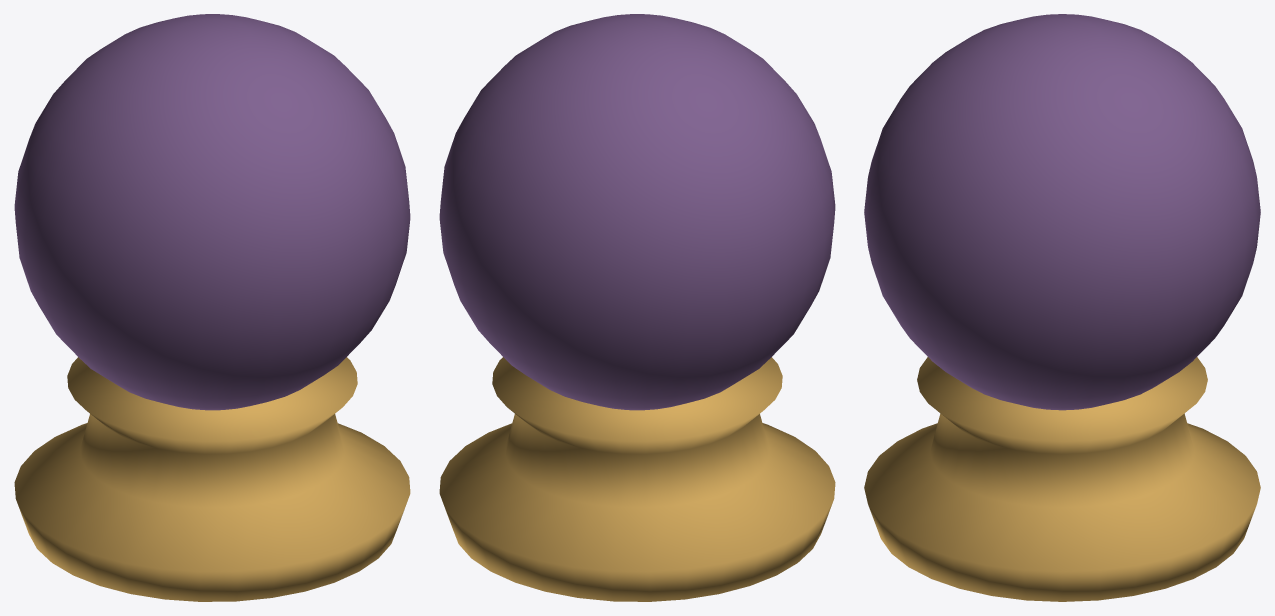
File: crystal_ball.glb
The picture shows the model from 3 angles, left to right: view 1: azimuth 30°, elevation 25°; view 2: azimuth 150°, elevation 25°; view 3: azimuth 270°, elevation 25°; orthographic projection.
Parts seen in each view (by area): view 1: LH_crystal_ball; view 2: LH_crystal_ball; view 3: LH_crystal_ball.
Part boxes in pixels (left/top/right/bottom): LH_crystal_ball: left=14, top=14, right=410, bottom=601; LH_crystal_ball: left=439, top=14, right=835, bottom=601; LH_crystal_ball: left=864, top=14, right=1260, bottom=601.
Size of the model in its own units: 0.15 by 0.205 by 0.15.
